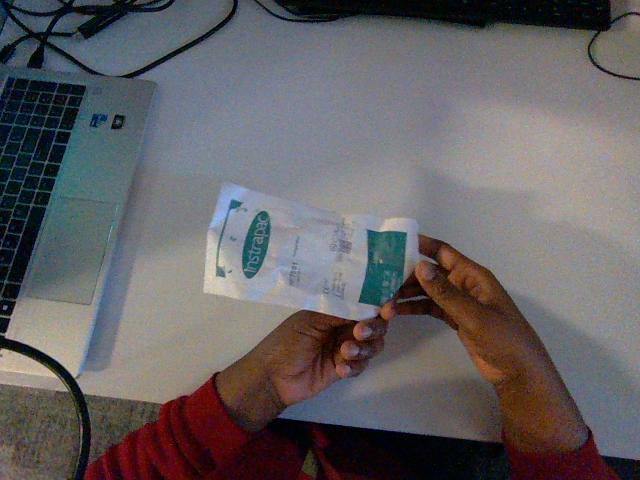gallipot: (204, 184, 418, 319)
